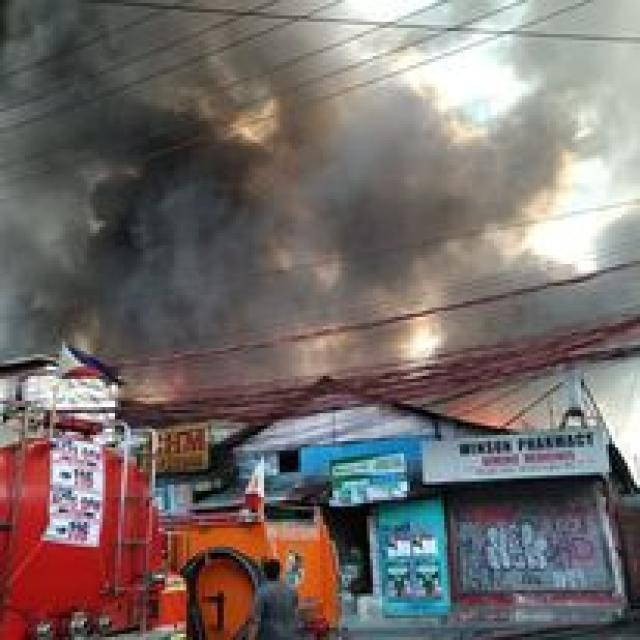Smoke: (0, 0, 506, 391), (422, 251, 640, 354)
